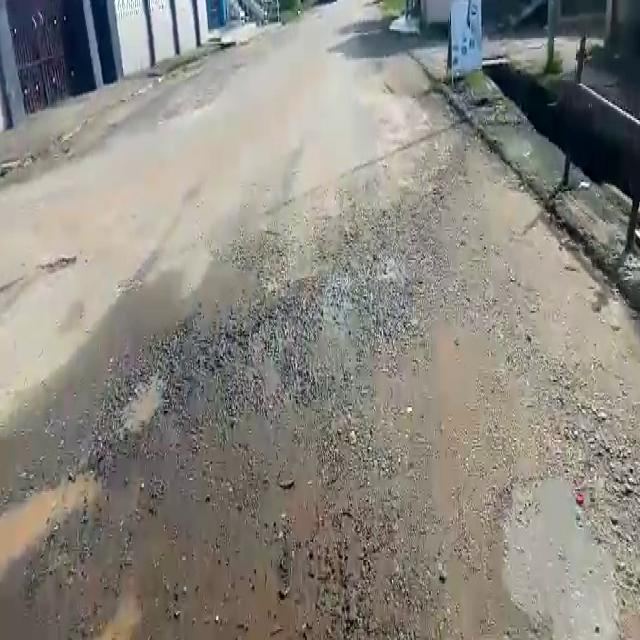Pothole: (118, 362, 170, 434)
